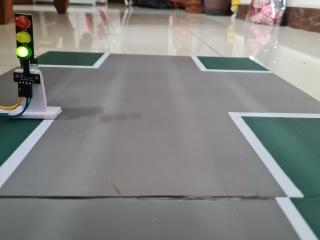green: (10, 8, 43, 82)
